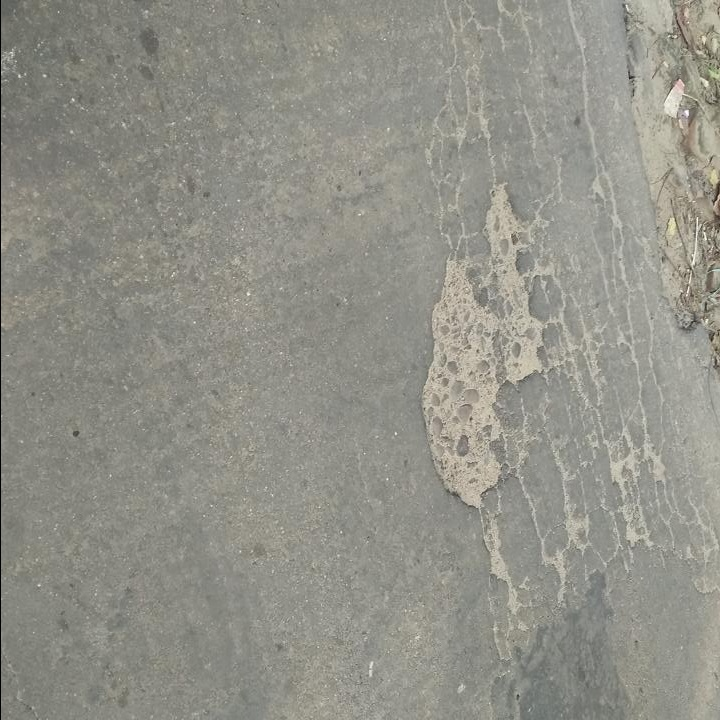pothole: (419, 175, 550, 513)
